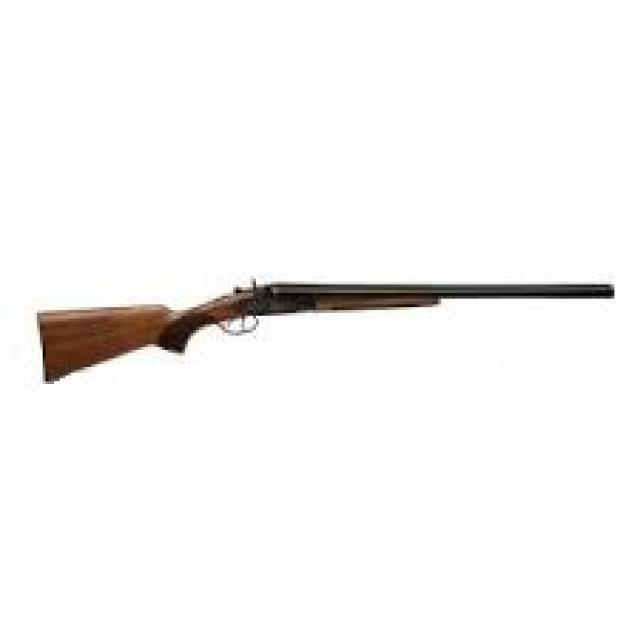rifle: (29, 274, 618, 399)
